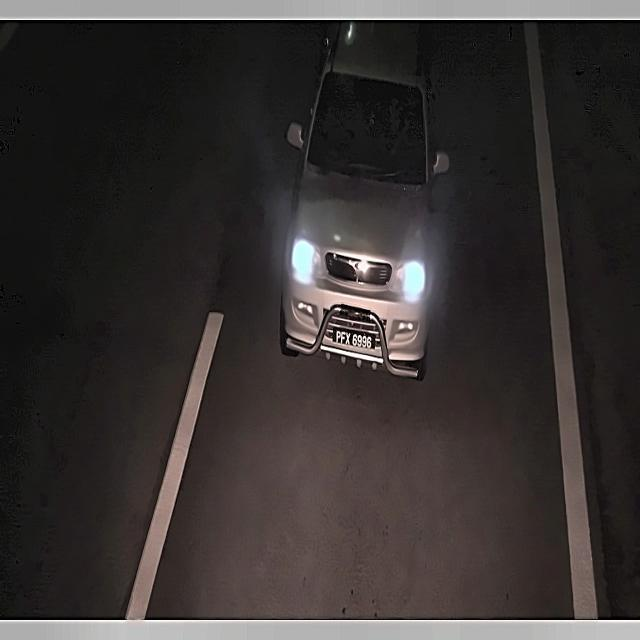car: (331, 324, 376, 355)
